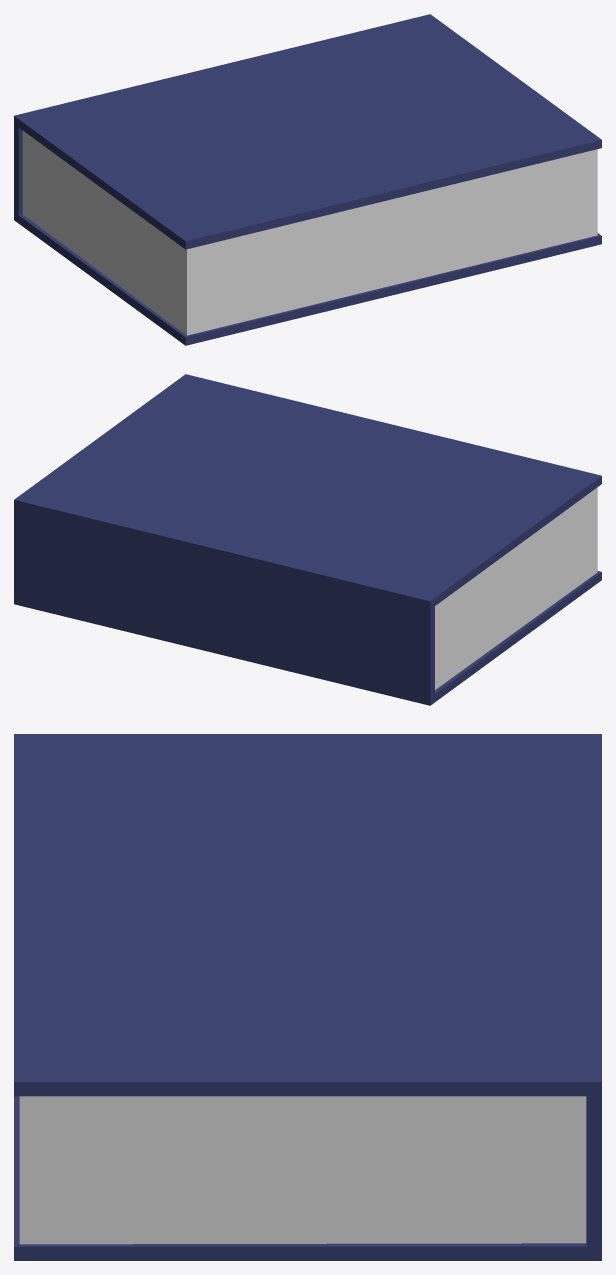
Rendered from ThrowProp_BookLargeBlue.FBX.
The picture shows the model from 3 angles, top to bottom: view 1: azimuth 30°, elevation 25°; view 2: azimuth 150°, elevation 25°; view 3: azimuth 270°, elevation 25°; orthographic projection. The views are drawn at different scales.
Visible parts, largest first — view 1: Book_LargeBlue; view 2: Book_LargeBlue; view 3: Book_LargeBlue.
Boxes of the visible parts, x1=… form: Book_LargeBlue: x1=14, y1=14, x2=601, y2=345; Book_LargeBlue: x1=14, y1=374, x2=601, y2=705; Book_LargeBlue: x1=14, y1=734, x2=601, y2=1260.
Size of the model in its own units: 21 by 5.04 by 15.
Materials: 1 (1 with a texture image).
